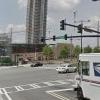Crosswalk: (3, 77, 70, 96)
